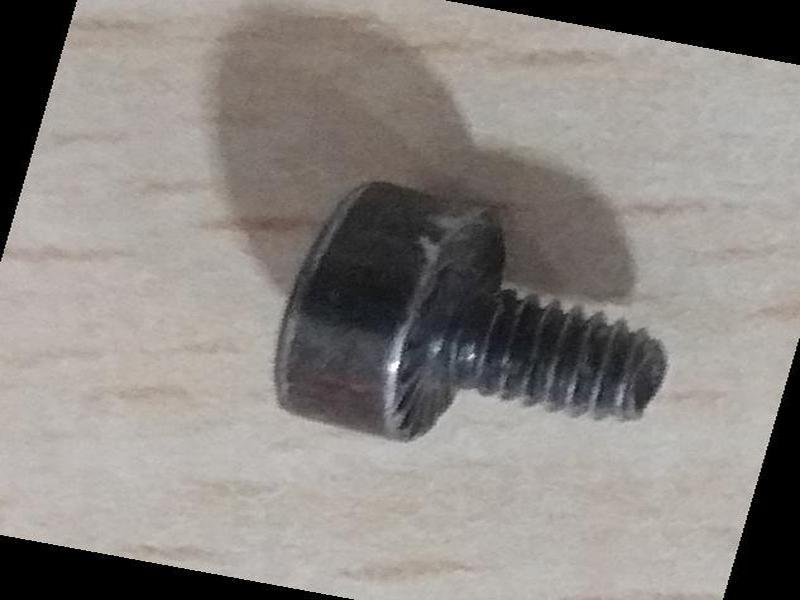verysmallscrew: (260, 161, 684, 500)
